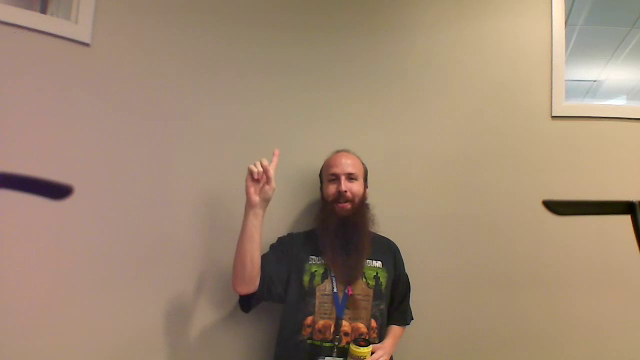up: (238, 143, 281, 216)
